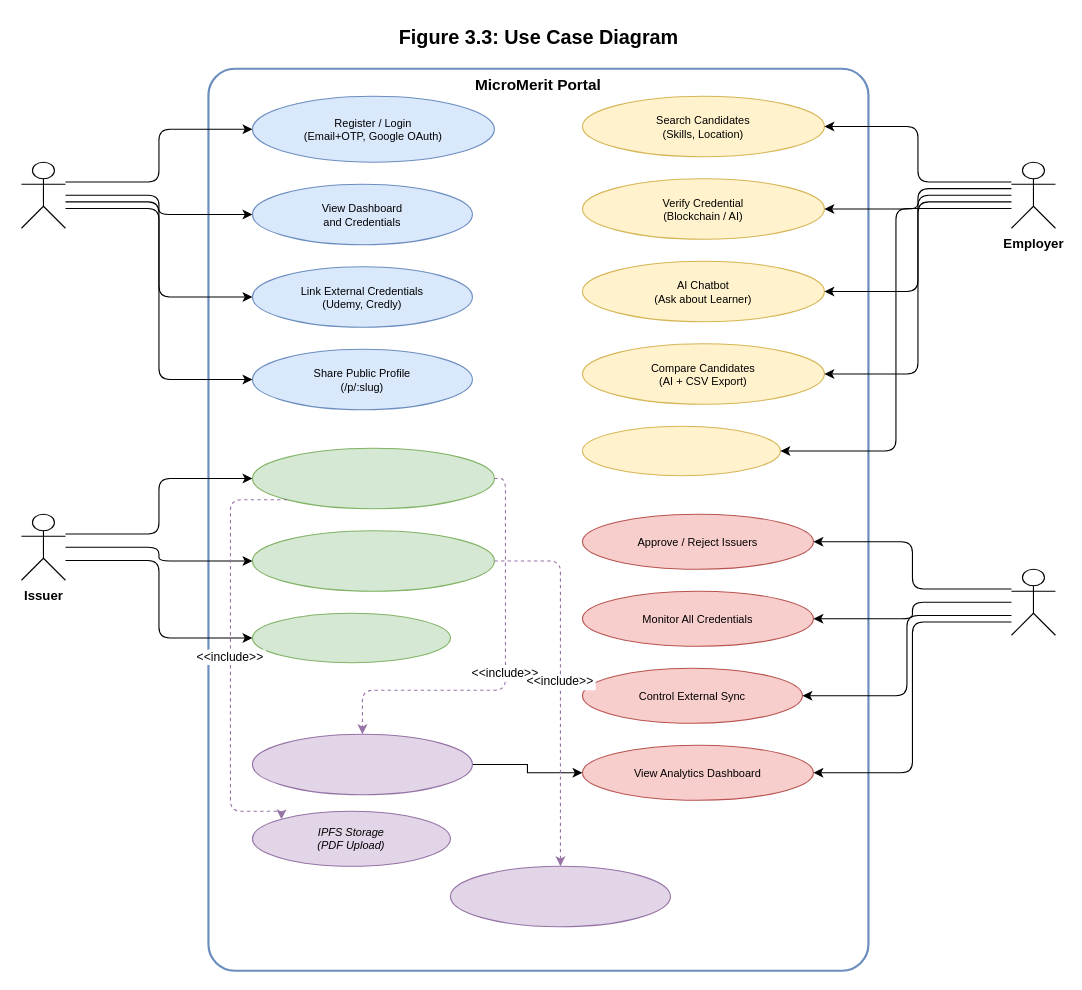
This 1082x990 diagram has some shape labels left out. The shapes that lost their labels are listed below. From the top down, each one's box as (x1, y1, x2, y2) in pixels, then its label:
(20, 161, 65, 228): Learner
(581, 425, 780, 476): Bulk Verify (ZIP)
(251, 447, 494, 509): Issue Single Credential (PDF + Metadata)
(251, 530, 494, 591): Bulk Issue Credentials (ZIP Upload)
(1010, 568, 1055, 635): Admin
(251, 612, 450, 663): Manage API Keys
(251, 733, 472, 795): Blockchain Anchoring (Background Job)
(449, 865, 670, 927): AI OCR Extraction (Tesseract + Groq)
